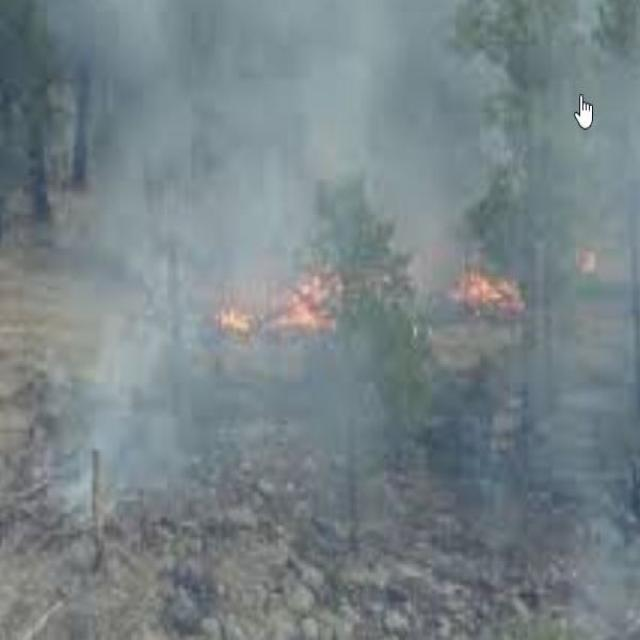Fire: (459, 258, 535, 329), (278, 262, 346, 338), (218, 292, 258, 345)
Smoke: (71, 0, 640, 619)
